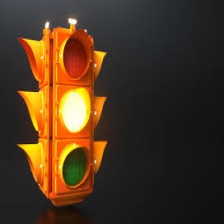semaforo: (51, 25, 94, 199)
